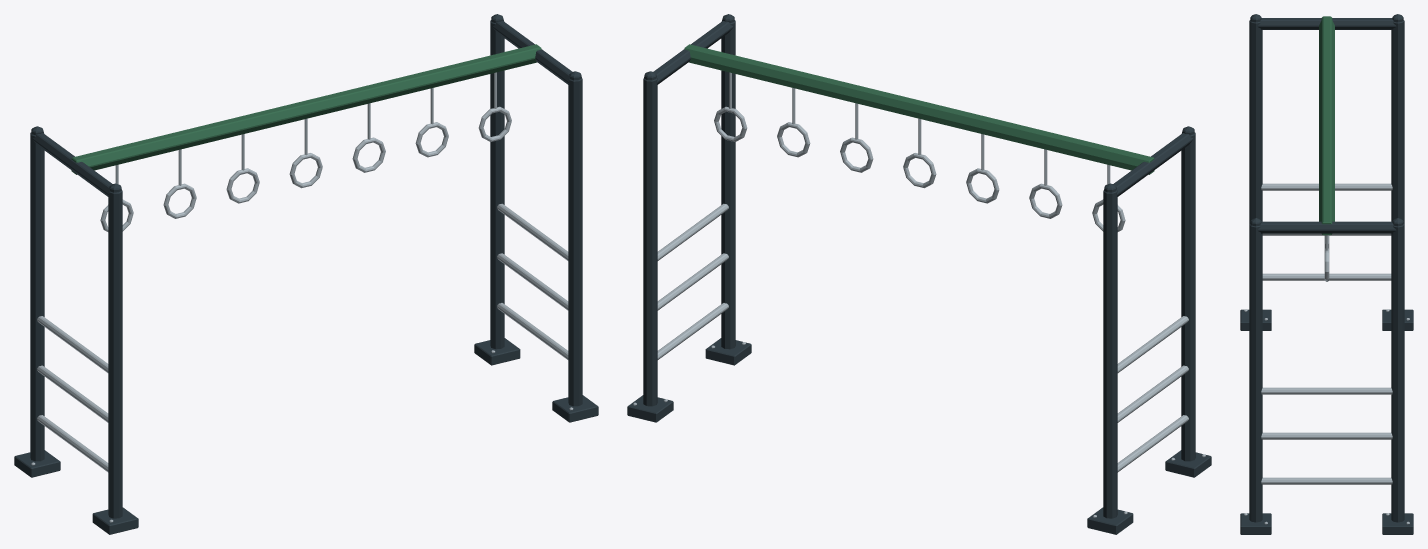
The model's file is b09_overhead_ring_traverse.glb.
3 renders of one model, left to right at view 1: azimuth 30°, elevation 25°; view 2: azimuth 150°, elevation 25°; view 3: azimuth 270°, elevation 25°, orthographic. The views are drawn at different scales.
Visible parts, largest first — view 1: b09_overhead_ring_traverse; view 2: b09_overhead_ring_traverse; view 3: b09_overhead_ring_traverse.
Boxes of the visible parts, bbox=[...] form: b09_overhead_ring_traverse: bbox=[14, 14, 598, 534]; b09_overhead_ring_traverse: bbox=[627, 14, 1211, 534]; b09_overhead_ring_traverse: bbox=[1240, 14, 1413, 534].
Bounding box in the file's own units: 3.62 × 2.42 × 1.22.
